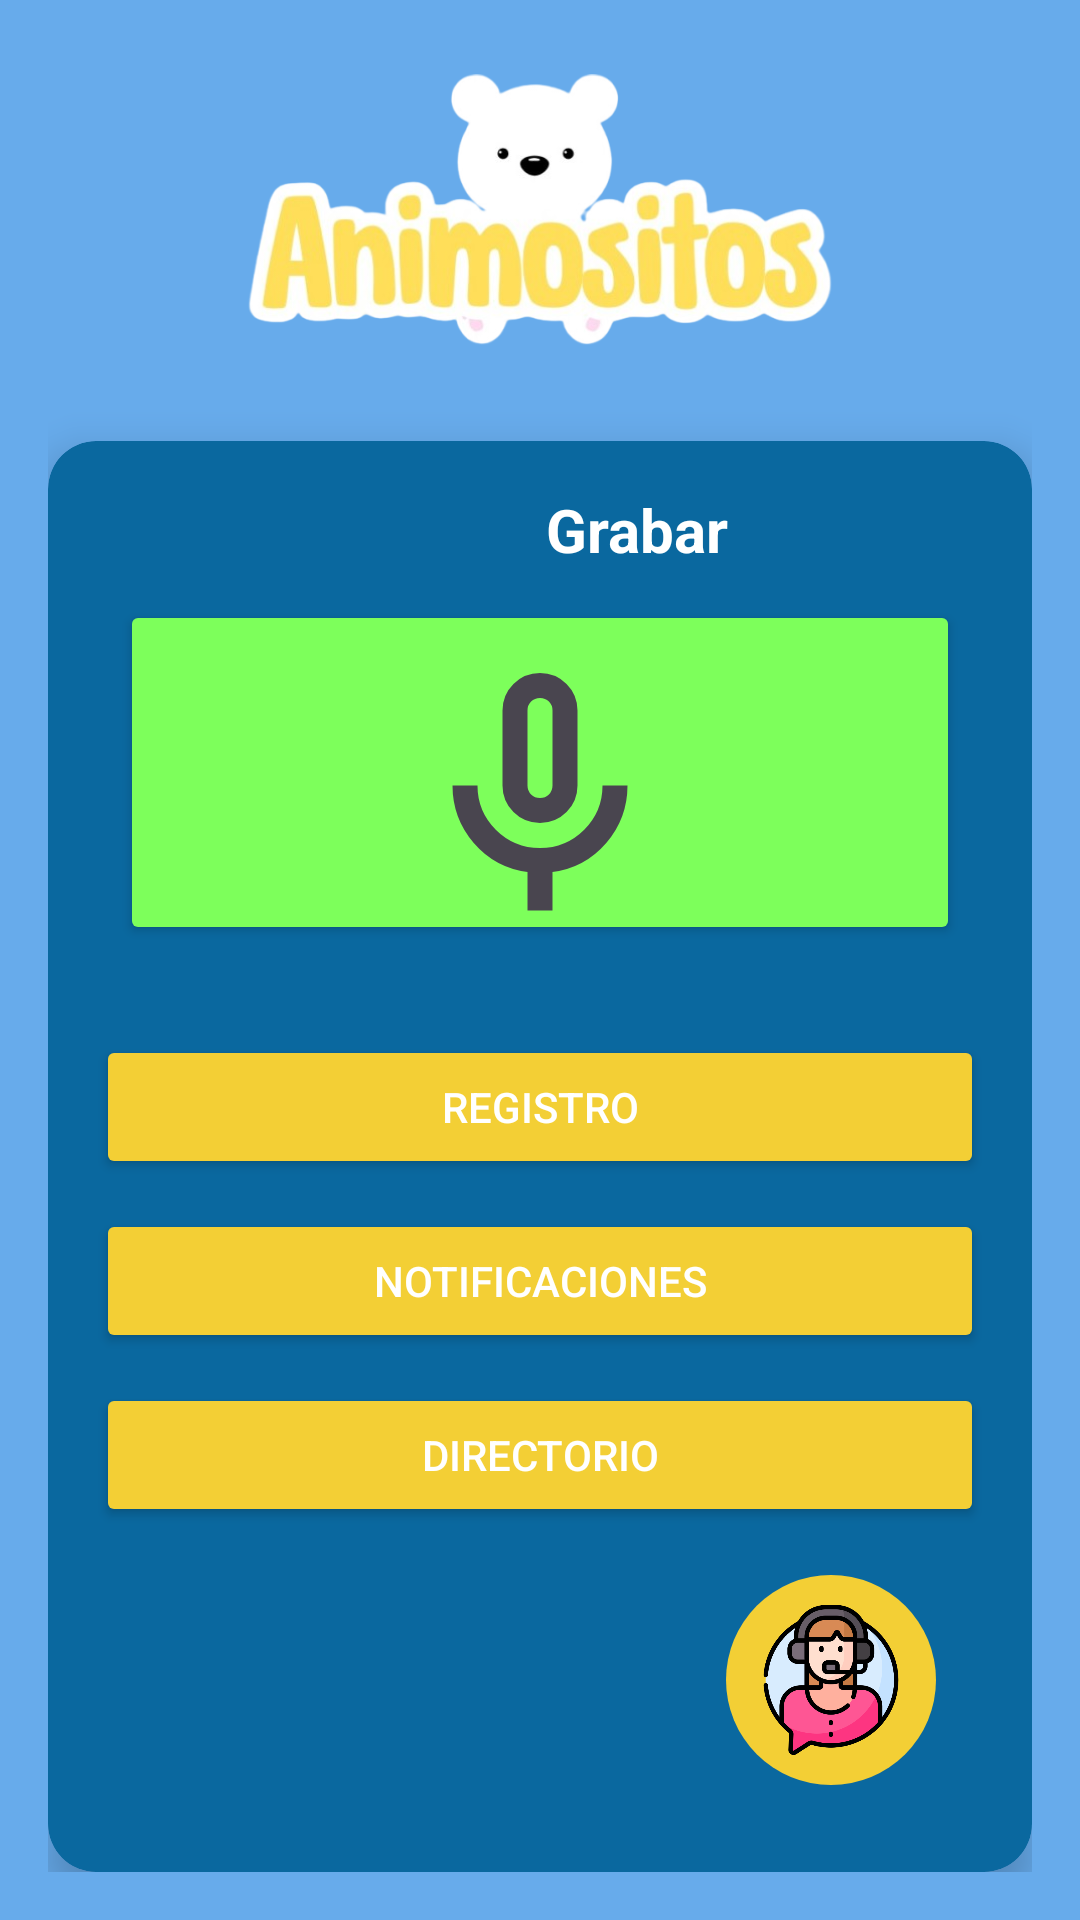

Named icons in this screenshot (1080x1920) and their bounding boxes, (x1, y1, x2, y2):
Icono de usuario: (726, 1575, 936, 1785)
